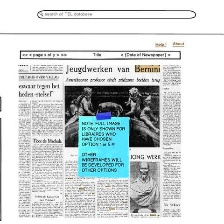news_paper: (8, 34, 188, 223)
